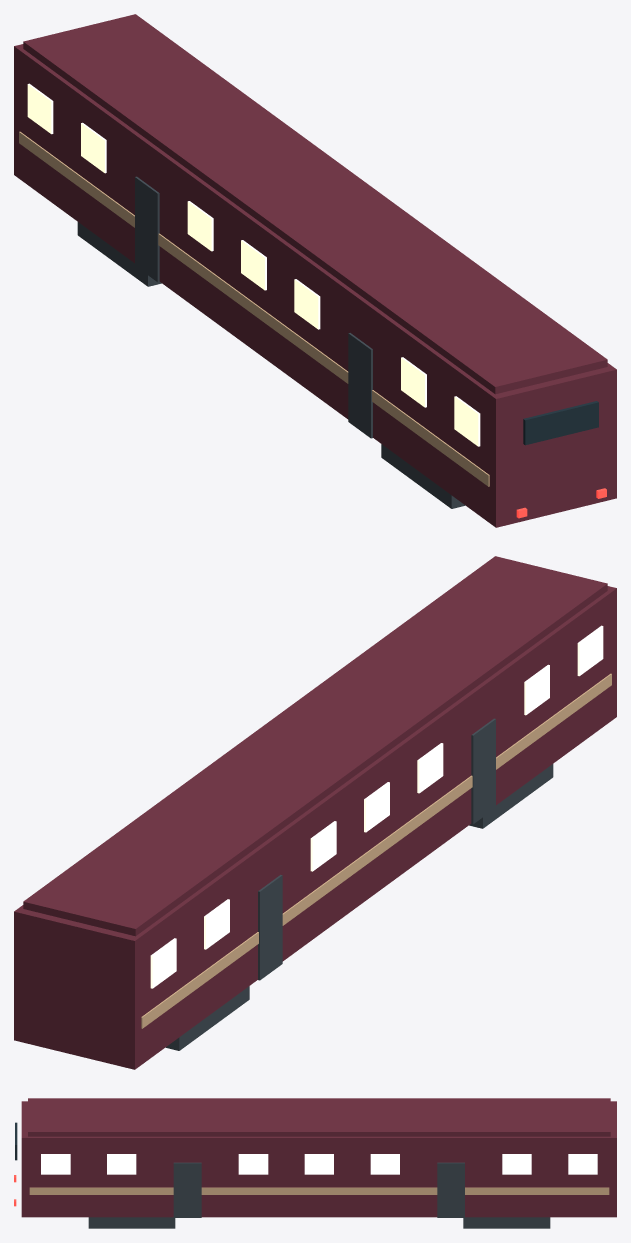
Rendered from private-tail.glb.
The picture shows the model from 3 angles, top to bottom: view 1: azimuth 30°, elevation 25°; view 2: azimuth 150°, elevation 25°; view 3: azimuth 270°, elevation 25°; orthographic projection. The views are drawn at different scales.
Size of the model in its own units: 2.88 by 3.5 by 19.45.
